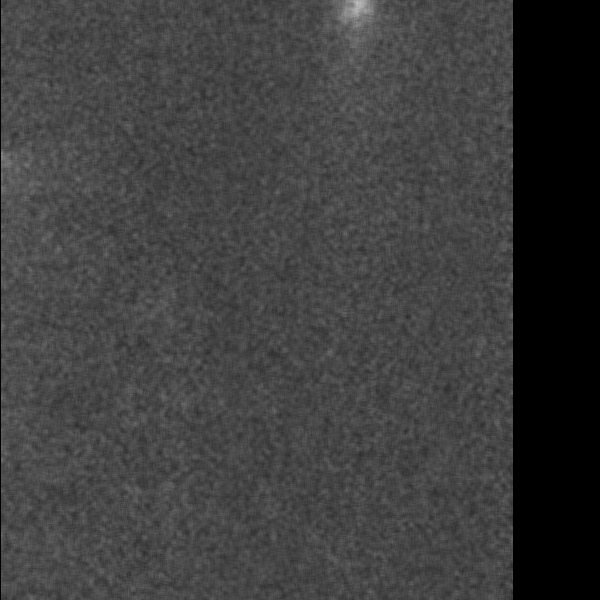spark: (76, 160, 108, 183)
